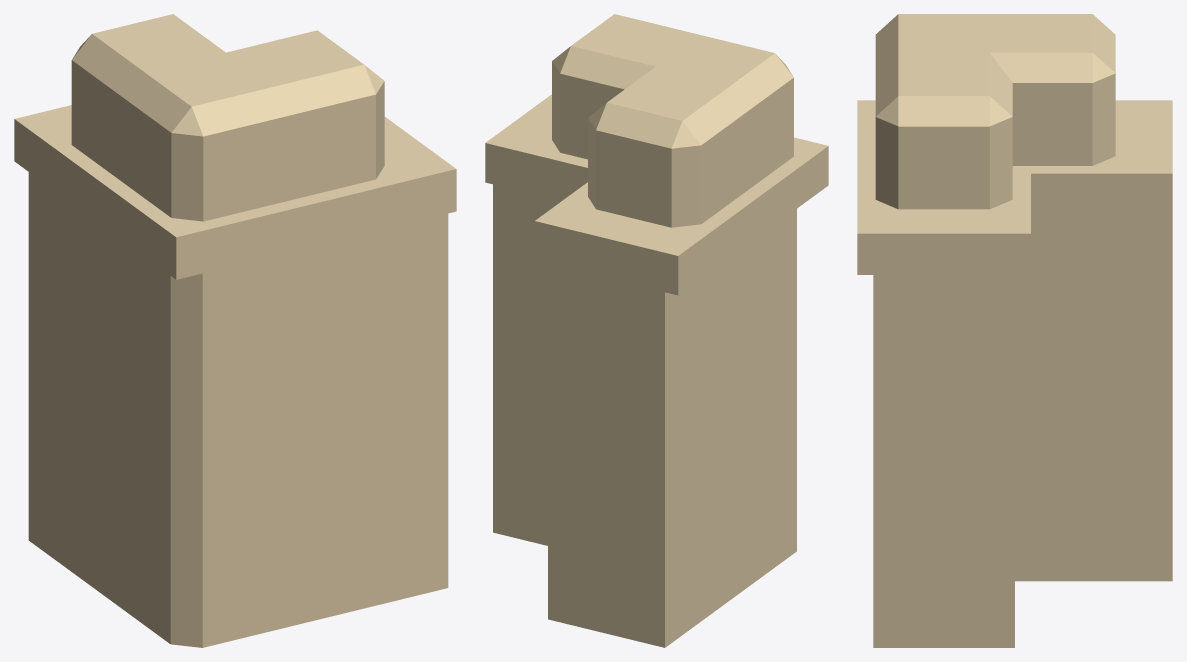
File: wall_curve_upper.glb
The picture shows the model from 3 angles, left to right: view 1: azimuth 30°, elevation 25°; view 2: azimuth 150°, elevation 25°; view 3: azimuth 270°, elevation 25°; orthographic projection. The views are drawn at different scales.
Visible parts, largest first — view 1: wall; view 2: wall; view 3: wall.
Boxes of the visible parts, <box> form: wall: <box>14,14,456,647</box>; wall: <box>485,14,828,647</box>; wall: <box>857,14,1172,647</box>.
Size of the model in its own units: 0.69 by 1.25 by 0.69.
